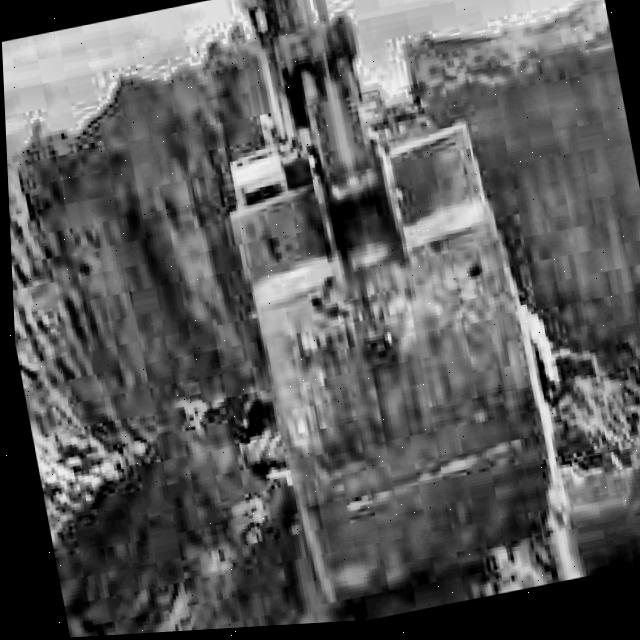dump_truck: (50, 342, 640, 638)
excavator: (172, 0, 580, 598)
